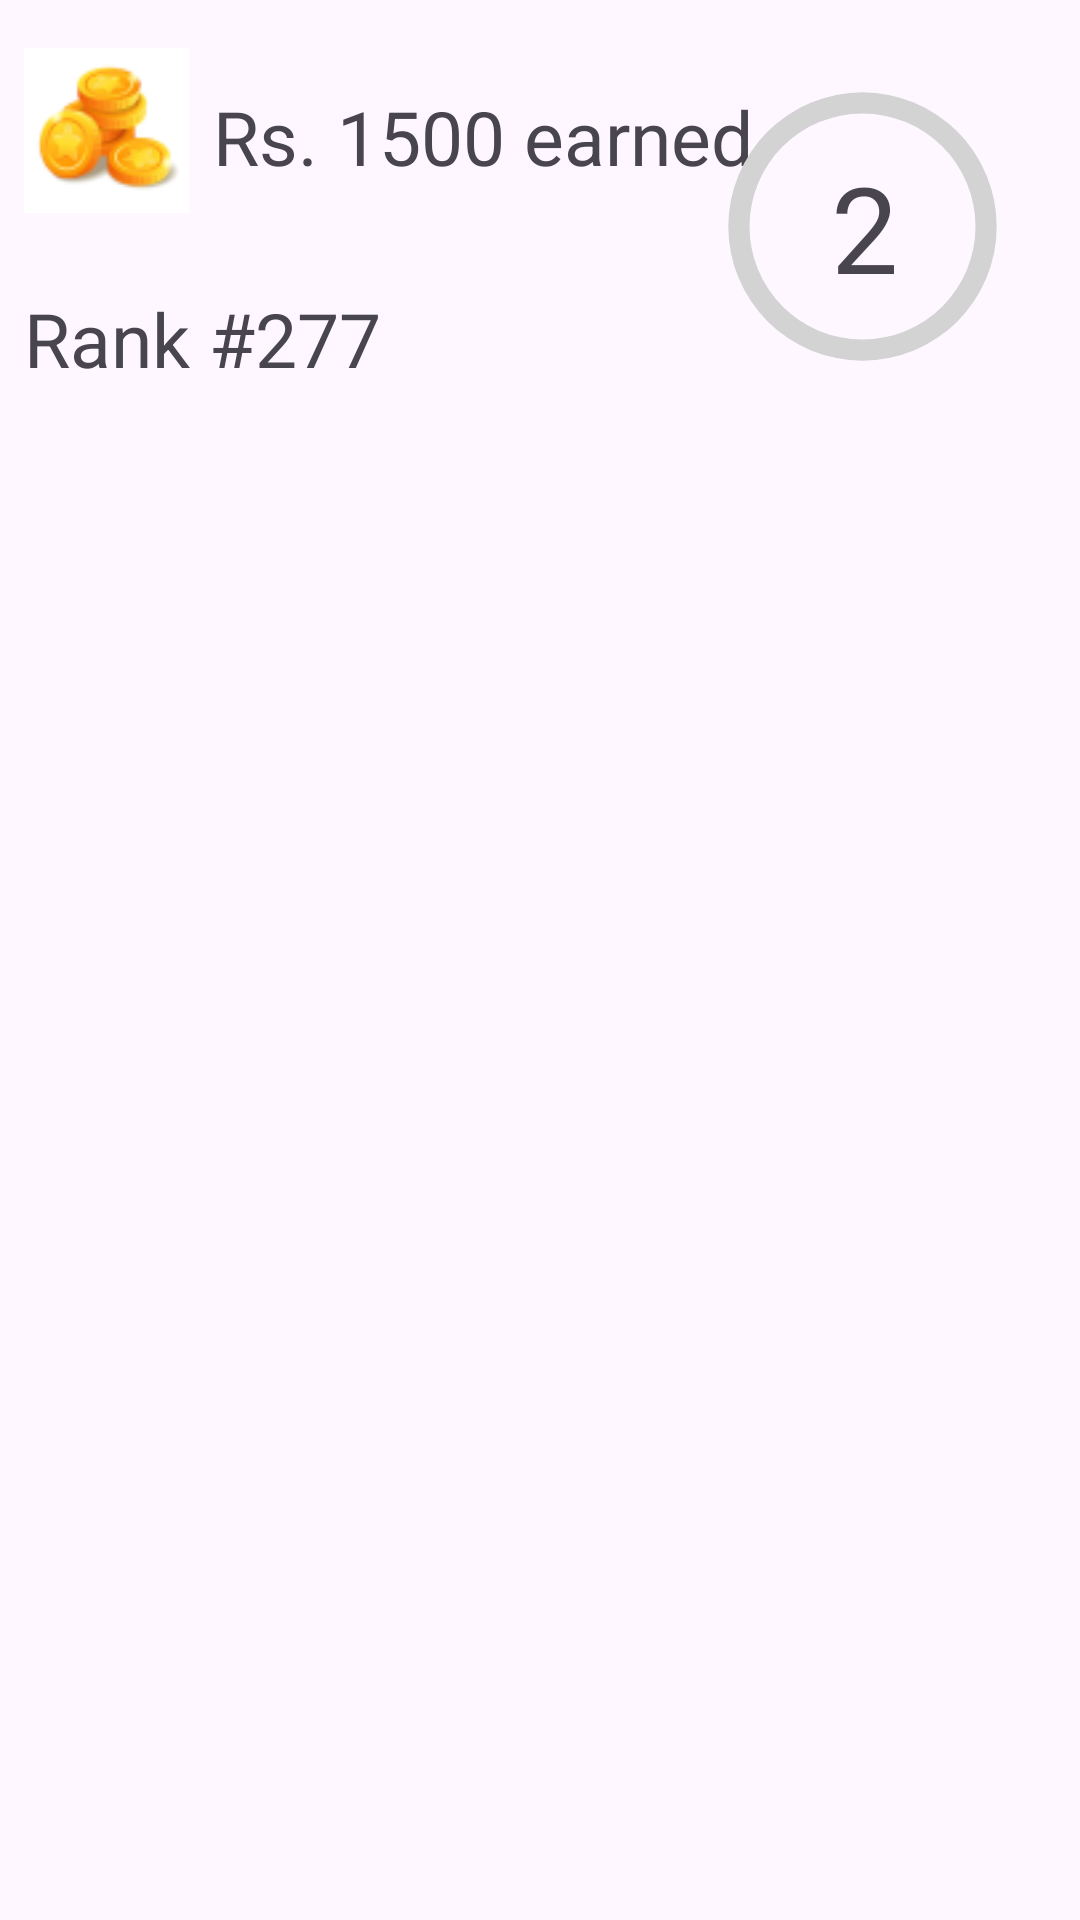

Where icons sit on this 1080*1920 app screen, as (x1, y1, x2, y2):
coins: (39, 66, 177, 188)
